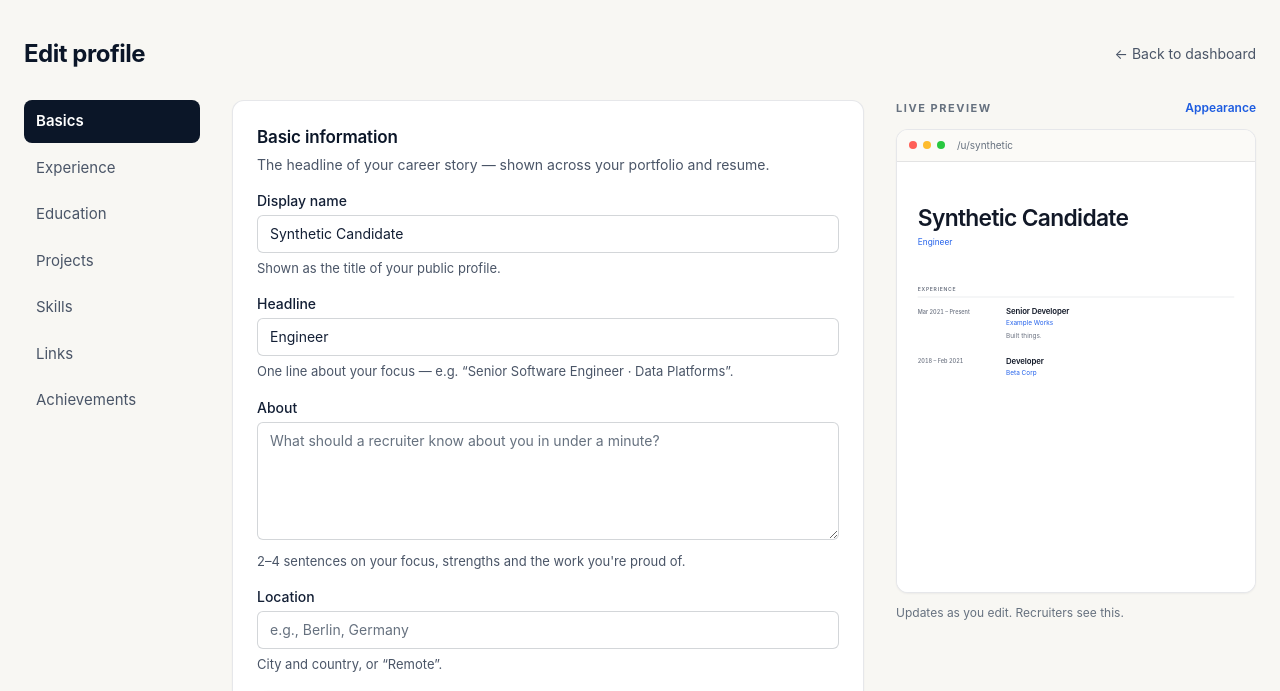
Test: ProfileEditor existing records › shows explanatory empty states for sections with no data
Click the button "Projects" at {"x": 112, "y": 261}, box [24,240,200,282]
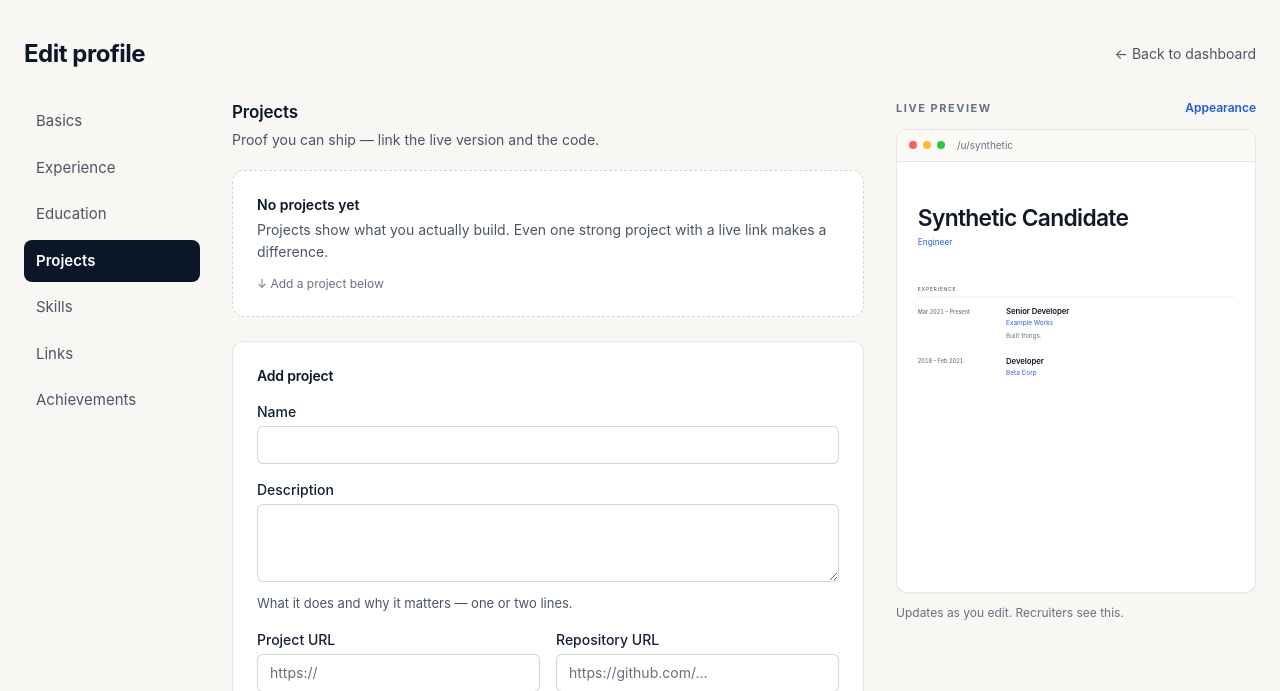
Expected: the text "No projects yet" is shown, [257,196,360,212]
Expected: the text "live link makes a difference" is shown, [257,220,826,260]
Click the button "Skills" at {"x": 112, "y": 307}, box [24,286,200,328]
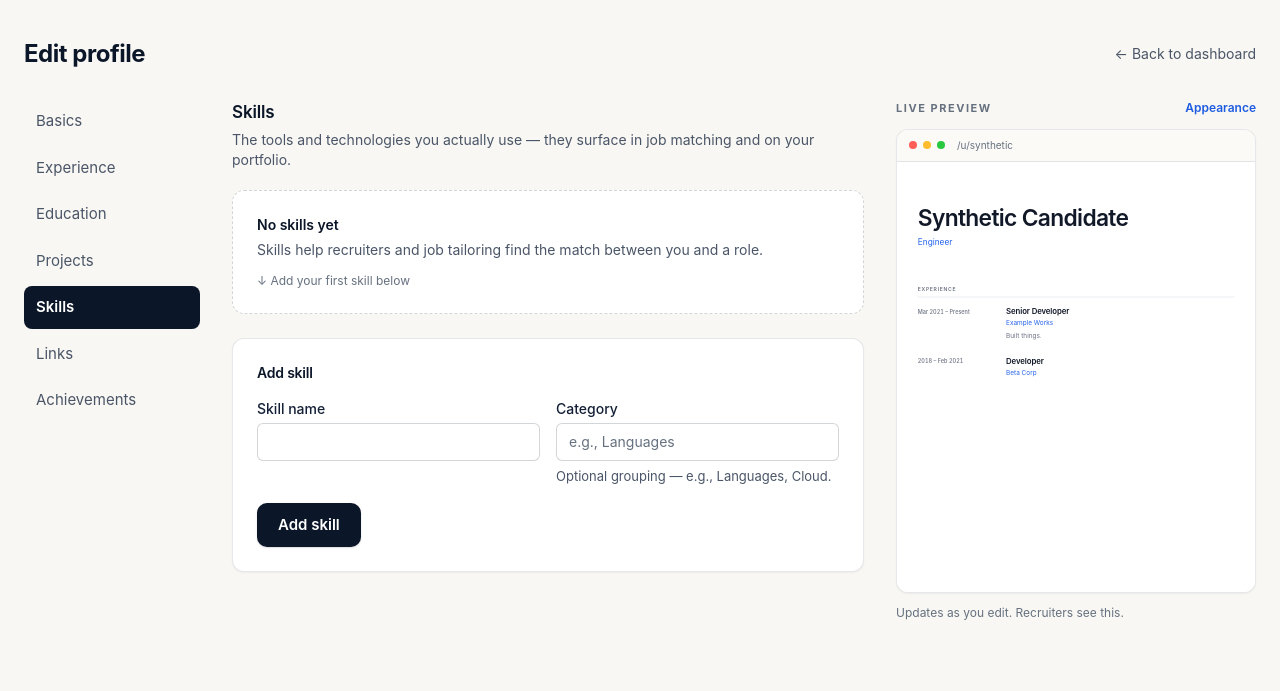
Expected: the text "No skills yet" is shown, [257,216,339,232]
Click the button "Links" at {"x": 112, "y": 354}, box [24,332,200,375]
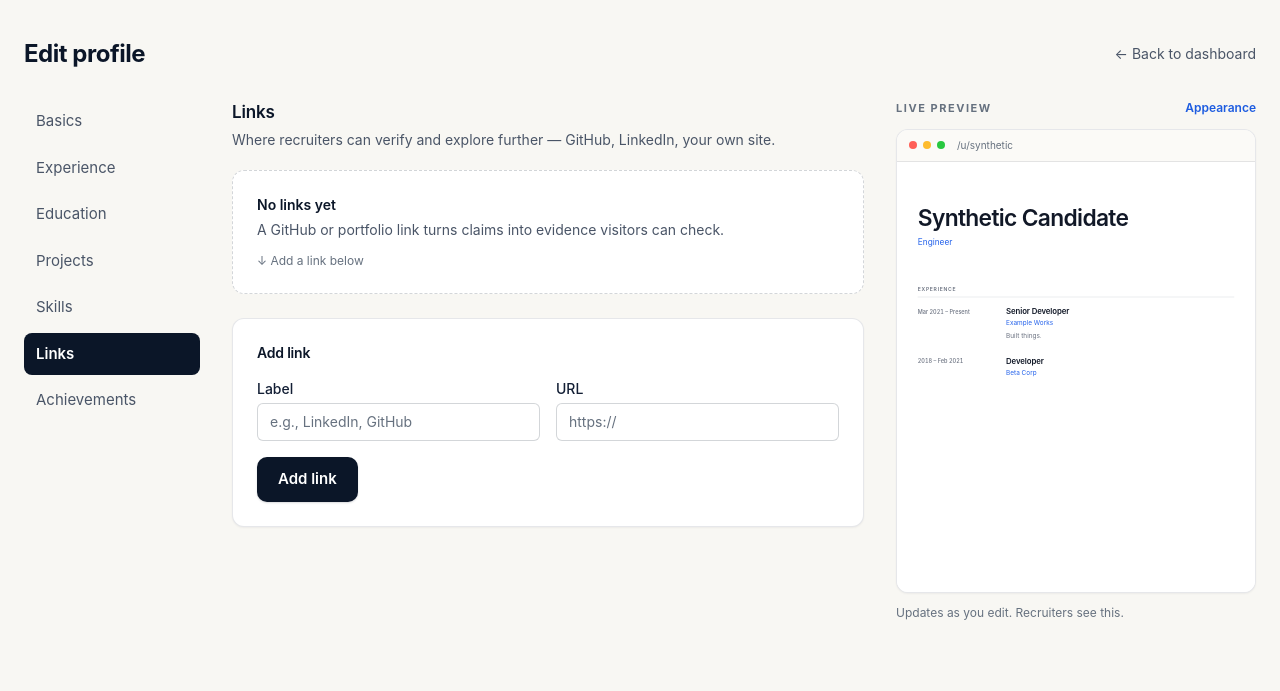
Expected: the text "No links yet" is shown, [257,196,336,212]
